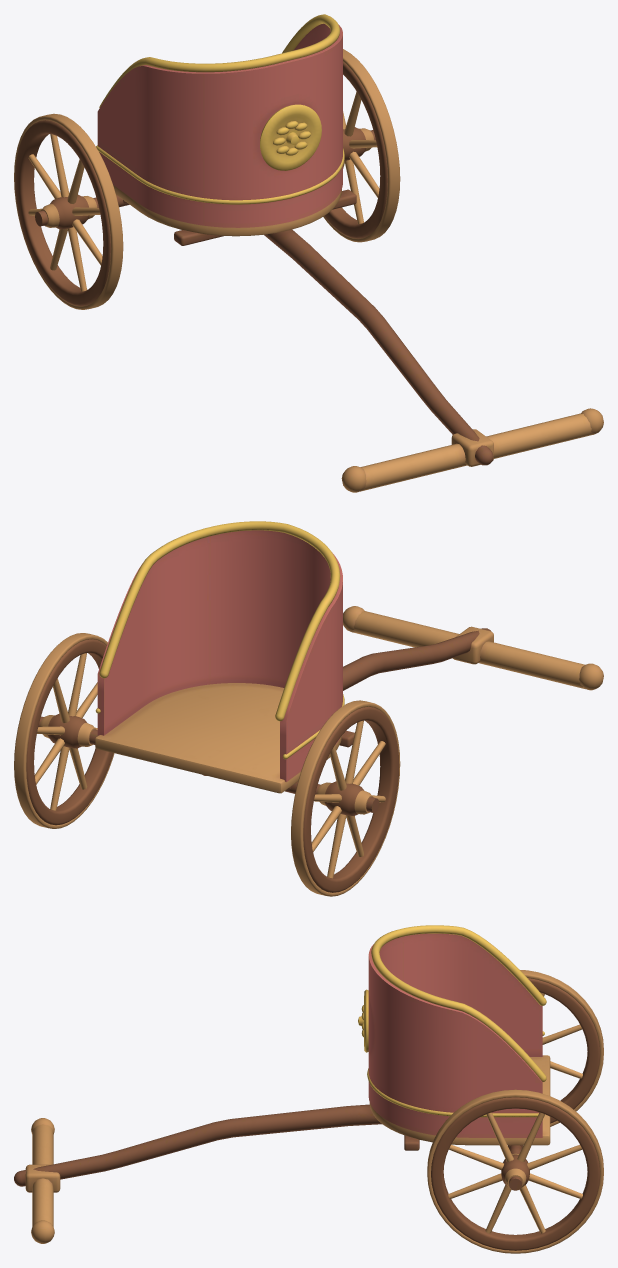
The model's file is racing-chariot.glb.
3 renders of one model, top to bottom at view 1: azimuth 30°, elevation 25°; view 2: azimuth 150°, elevation 25°; view 3: azimuth 270°, elevation 25°, orthographic. The views are drawn at different scales.
Visible parts, largest first — view 1: racing-chariot_body, racing-chariot_wheel_l, racing-chariot_wheel_r; view 2: racing-chariot_body, racing-chariot_wheel_l, racing-chariot_wheel_r; view 3: racing-chariot_body, racing-chariot_wheel_r, racing-chariot_wheel_l.
Part boxes in pixels (<box>): racing-chariot_body: <box>35,14,603,492</box>; racing-chariot_wheel_l: <box>14,113,123,309</box>; racing-chariot_wheel_r: <box>323,49,400,242</box>; racing-chariot_body: <box>38,521,603,812</box>; racing-chariot_wheel_l: <box>291,700,400,896</box>; racing-chariot_wheel_r: <box>14,633,114,828</box>; racing-chariot_body: <box>14,925,550,1243</box>; racing-chariot_wheel_r: <box>427,1089,603,1253</box>; racing-chariot_wheel_l: <box>520,970,603,1126</box>.
Size of the model in its own units: 1.8 by 1.39 by 3.07.
7 materials, 1 textured.
